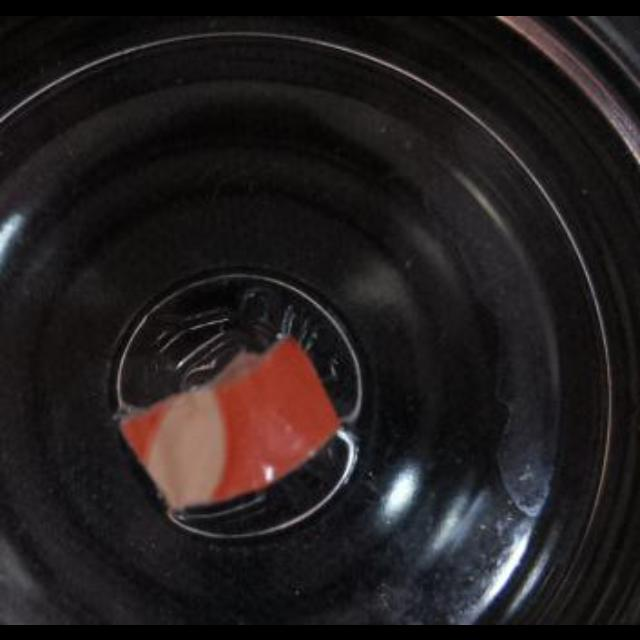Fragment: (109, 329, 343, 513)
